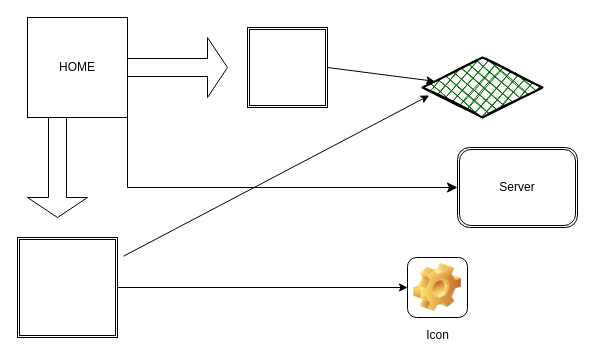
The diagram is 595 pixels wide and 360 high, and some of its shapes have lost their labels. Here are the shapes that lost their labels. From the top down, the box of each, then its label:
(246, 26, 328, 108): API
(16, 236, 118, 338): DB
